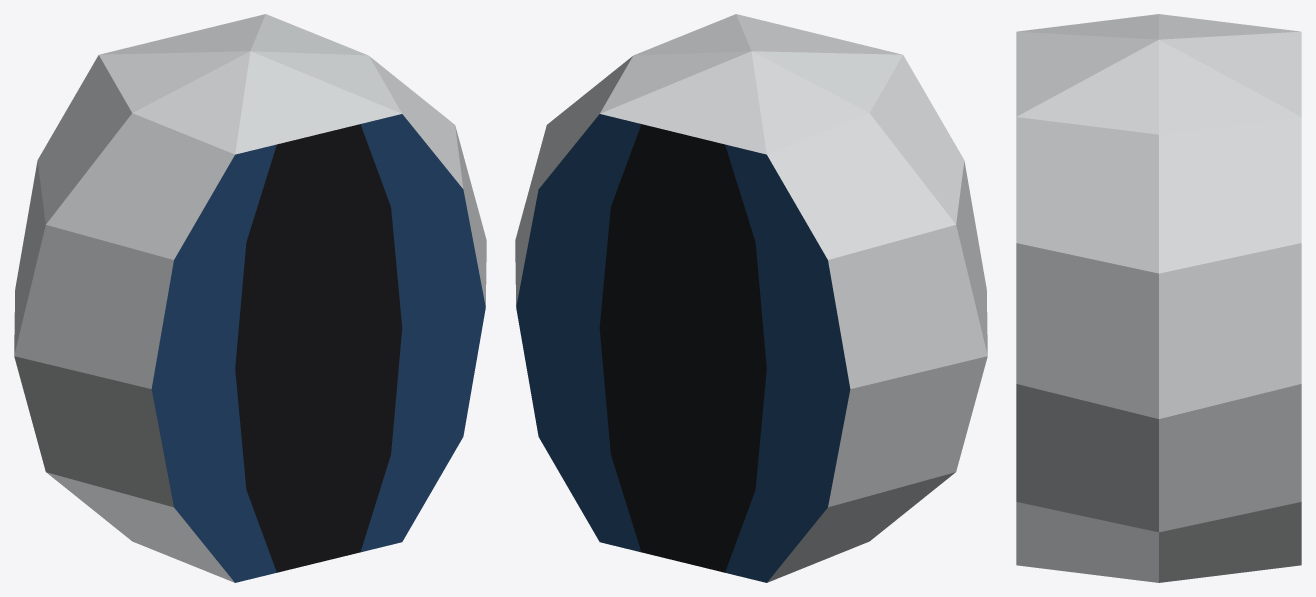
Rendered from enemy_thinker_eye.gltf.
3 renders of one model, left to right at view 1: azimuth 30°, elevation 25°; view 2: azimuth 150°, elevation 25°; view 3: azimuth 270°, elevation 25°, orthographic. The views are drawn at different scales.
Visible parts, largest first — view 1: enemy_thinker_eye; view 2: enemy_thinker_eye; view 3: enemy_thinker_eye.
Boxes of the visible parts, <box> form: enemy_thinker_eye: <box>14,14,486,582</box>; enemy_thinker_eye: <box>515,14,987,582</box>; enemy_thinker_eye: <box>1016,14,1301,582</box>.
Bounding box in the file's own units: 2 × 2 × 1.
